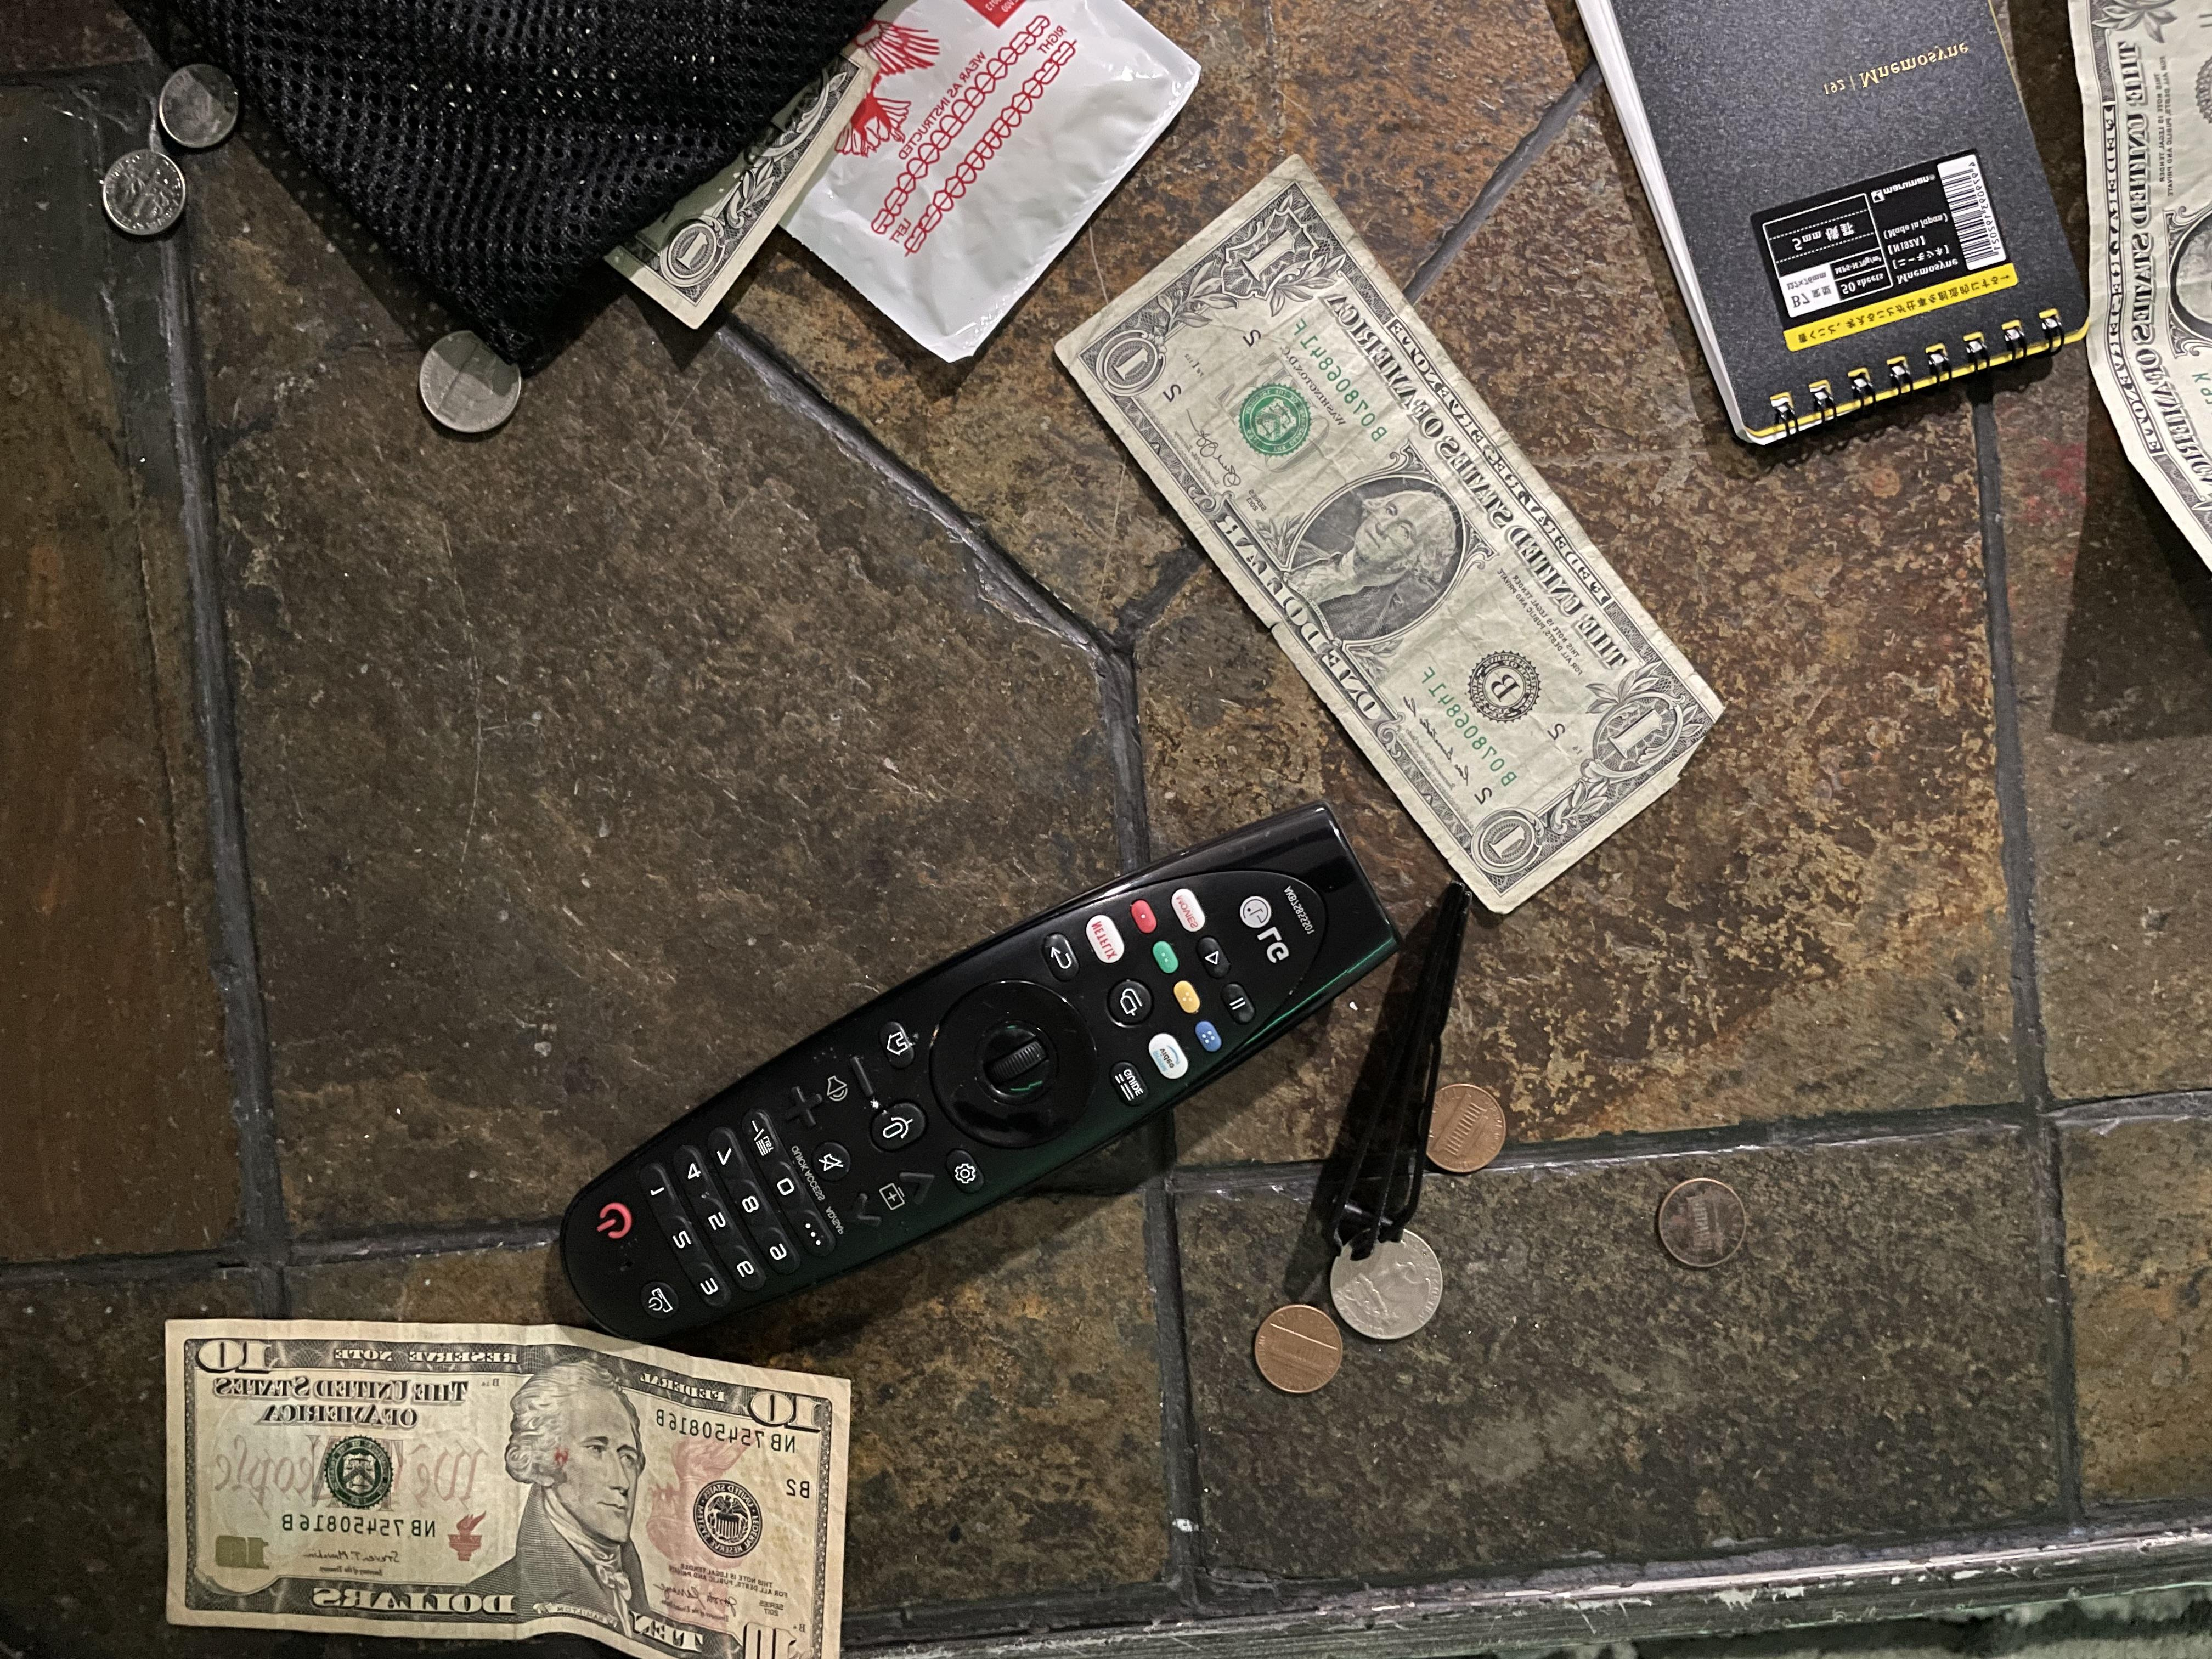Dime: (139, 64, 256, 153), (94, 146, 199, 237)
Nickel: (409, 324, 528, 439)
OneBill: (1047, 159, 1728, 922)
Penny: (1644, 1164, 1750, 1281), (1418, 1073, 1521, 1194), (1249, 1304, 1339, 1398)
Quarter: (1317, 1223, 1456, 1349)
TenBill: (136, 1284, 873, 1657)
